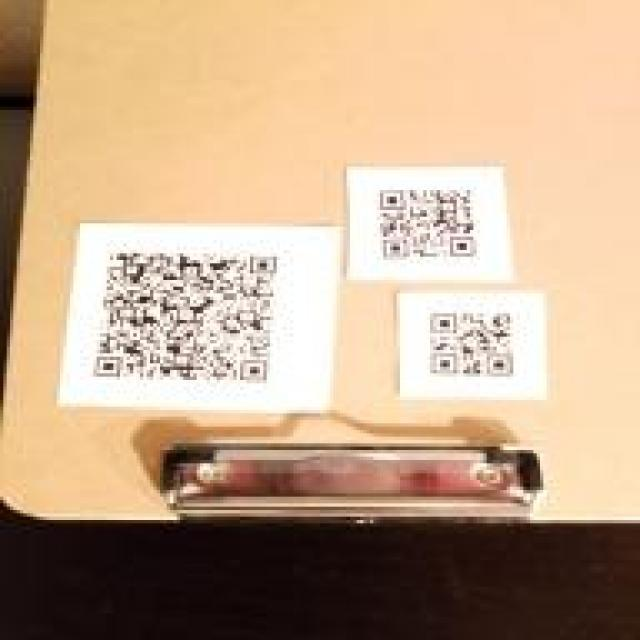qr_code: (94, 252, 278, 382), (380, 189, 475, 259), (429, 312, 514, 376)
